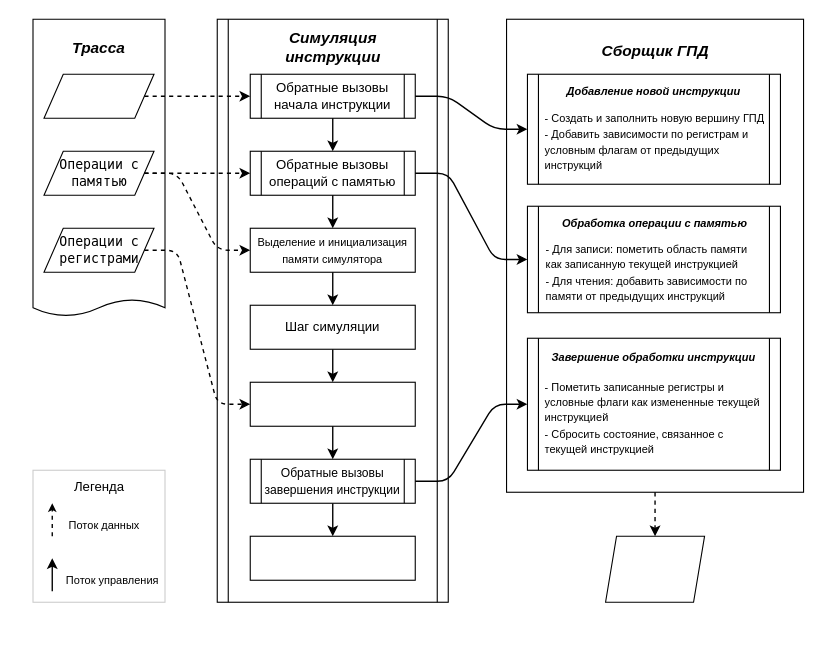
The diagram is 833 pixels wide and 655 high, and some of its shapes have lost their labels. Each missing label, with the centre of its shape:
Верификация состояния симулятора: the point at 332,557
ГПД: the point at 654,568
Инструкции: the point at 98,95
Обновление значений регистров симулятора: the point at 332,403
